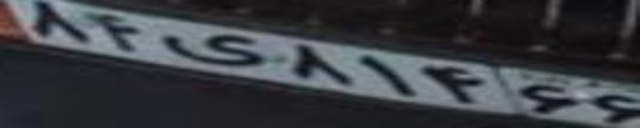1: (358, 55, 418, 96)
4: (421, 66, 490, 103), (88, 12, 138, 52)
6: (516, 83, 575, 114), (590, 91, 637, 123)
8: (281, 40, 351, 85), (28, 1, 86, 44)
ye: (160, 31, 263, 66)
